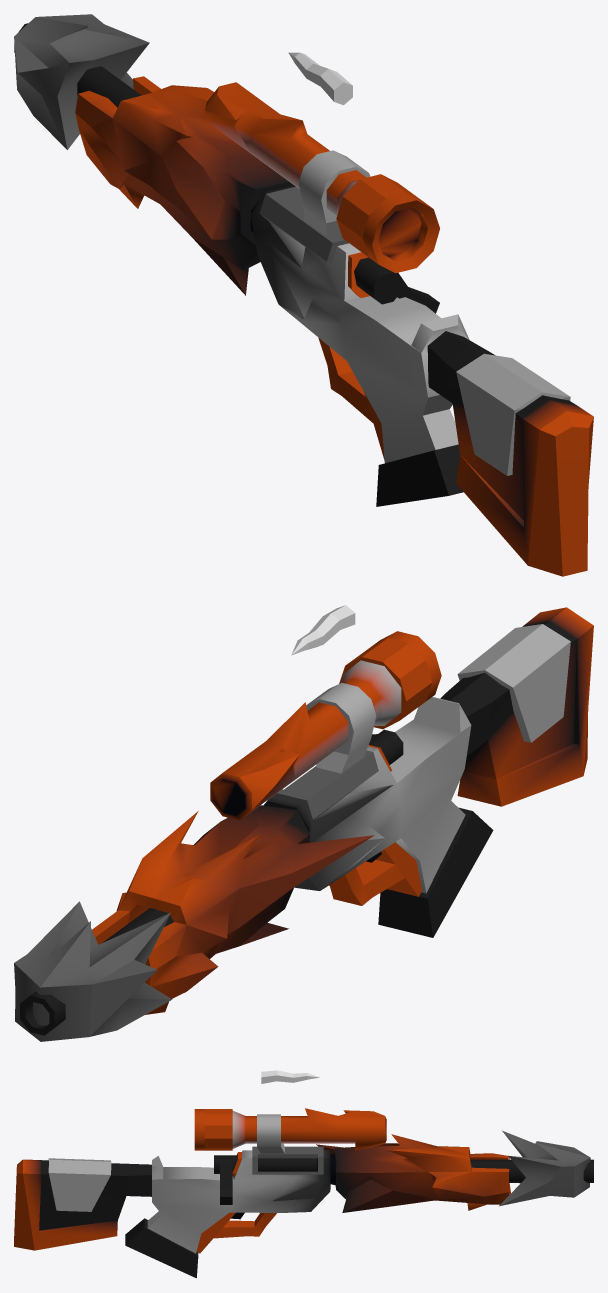
File: ice_cs_babylon.glb
The picture shows the model from 3 angles, top to bottom: view 1: azimuth 30°, elevation 25°; view 2: azimuth 150°, elevation 25°; view 3: azimuth 270°, elevation 25°; orthographic projection. The views are drawn at different scales.
Parts seen in each view (by area): view 1: ice_cs_babylon; view 2: ice_cs_babylon; view 3: ice_cs_babylon.
Part boxes in pixels (x1,y1,x2,y2): ice_cs_babylon: (14, 14, 593, 576); ice_cs_babylon: (14, 605, 593, 1041); ice_cs_babylon: (14, 1070, 593, 1278).
Size of the model in its own units: 0.0859 by 0.2203 by 0.5766.
